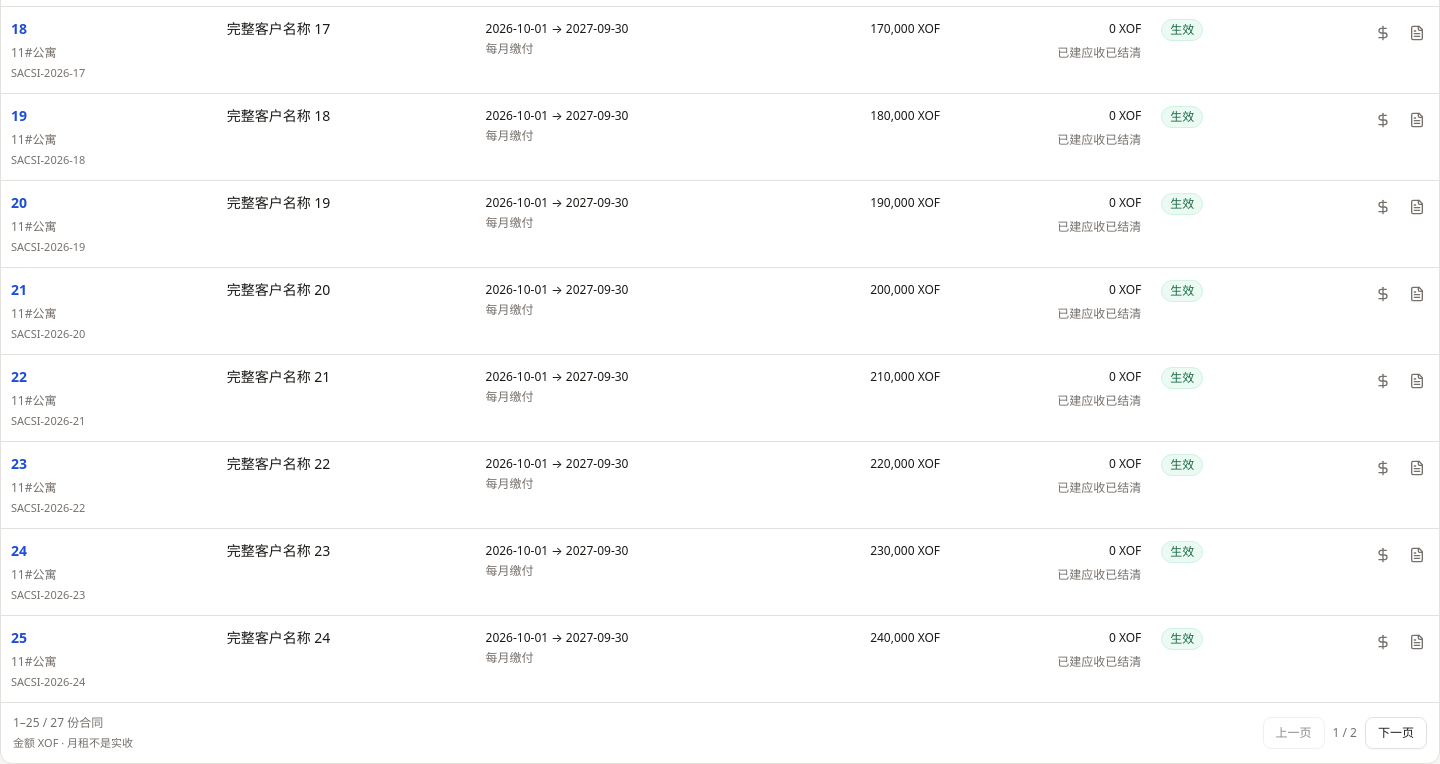
sorts local rows, leaves unknown amounts last, and reports only the visible page
The image size is (1440, 764).
(page scrolled)
Click the button "下一页": (1396,733) 1365,717 -> 1427,749
(page scrolled)
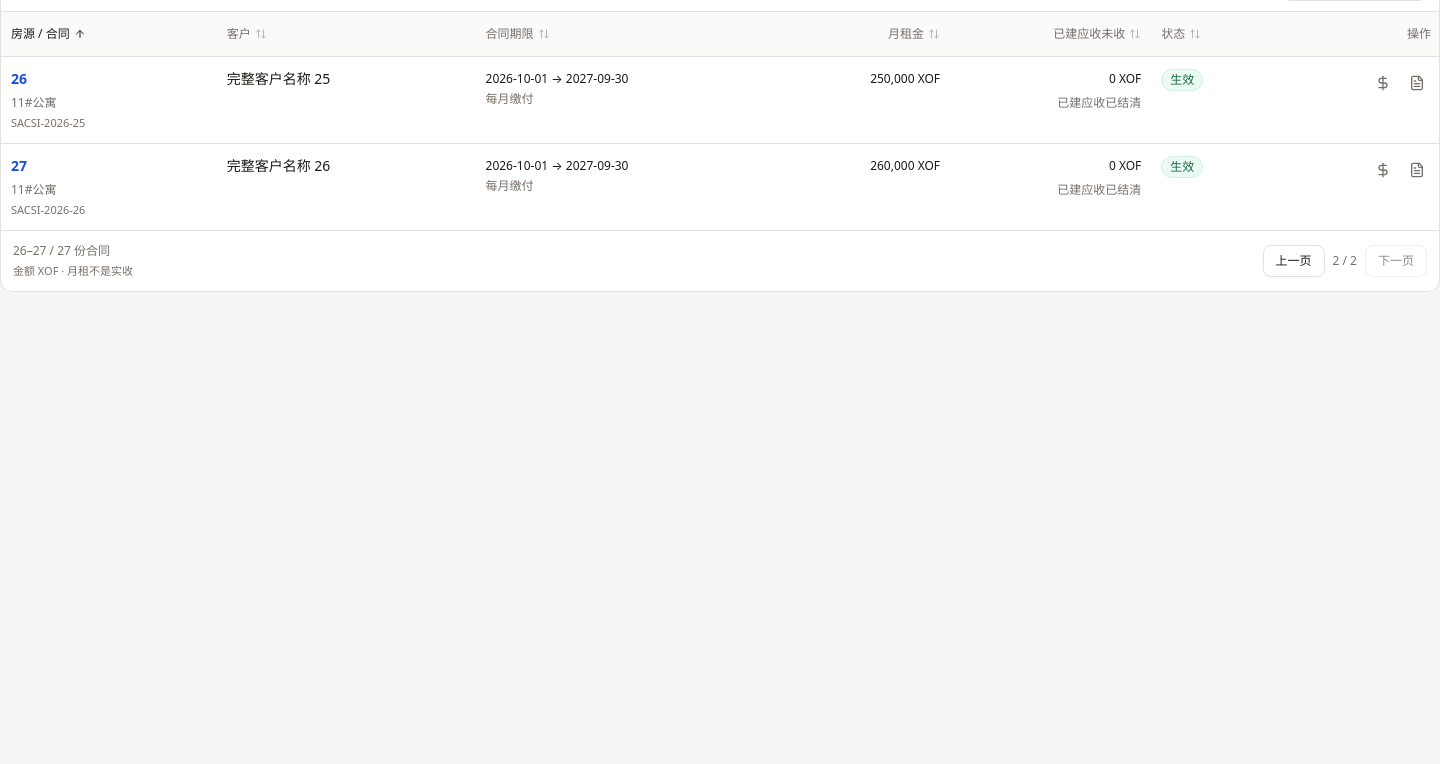
Check: the text "26–27 / 27" is shown, box 13,242 -> 71,259
Click the button "月租金": (914,34) 888,24 -> 940,44
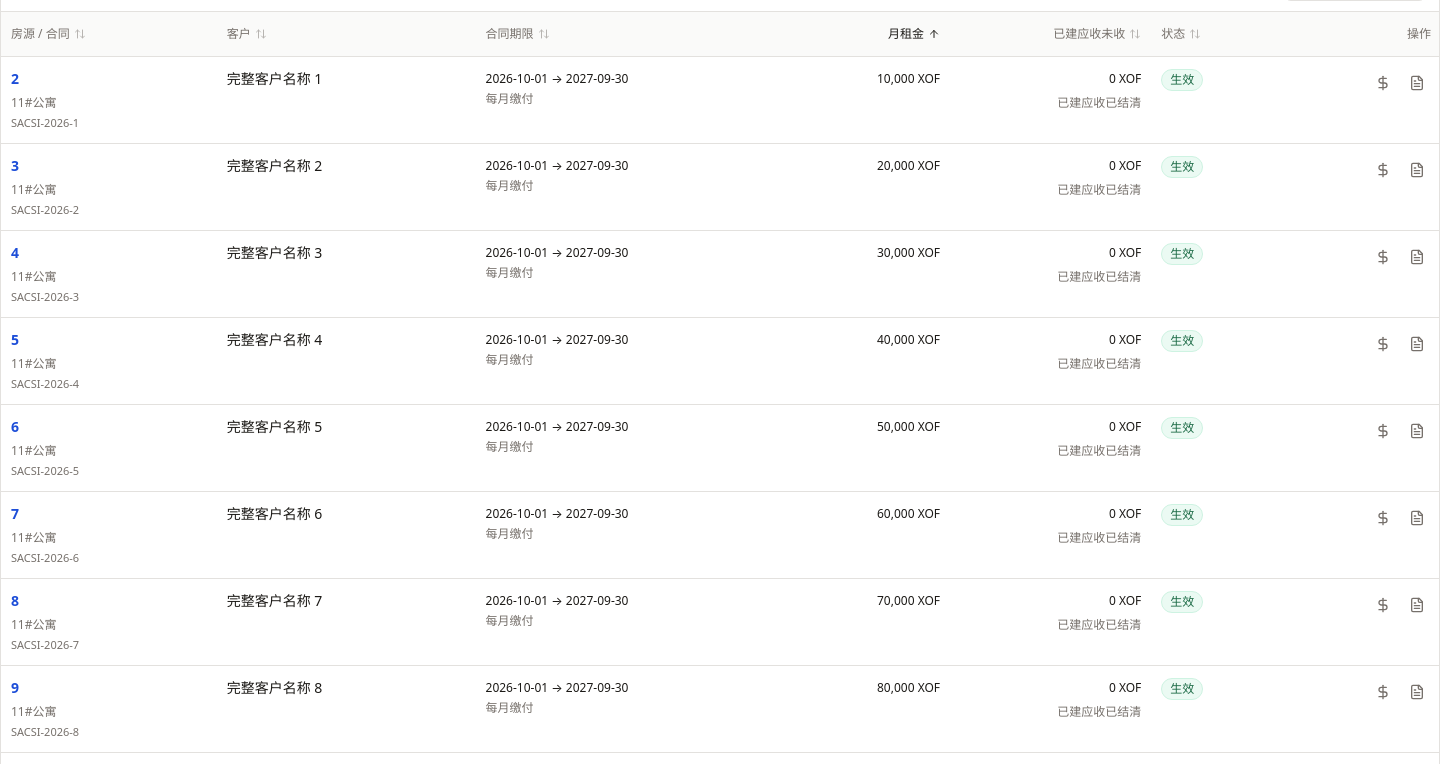
Check: the column heading "月租金" is shown, box 763,12 -> 950,56
Check: the button "2" is shown, box 11,69 -> 19,89
Click the button "月租金": (914,34) 888,24 -> 940,44
(page scrolled)
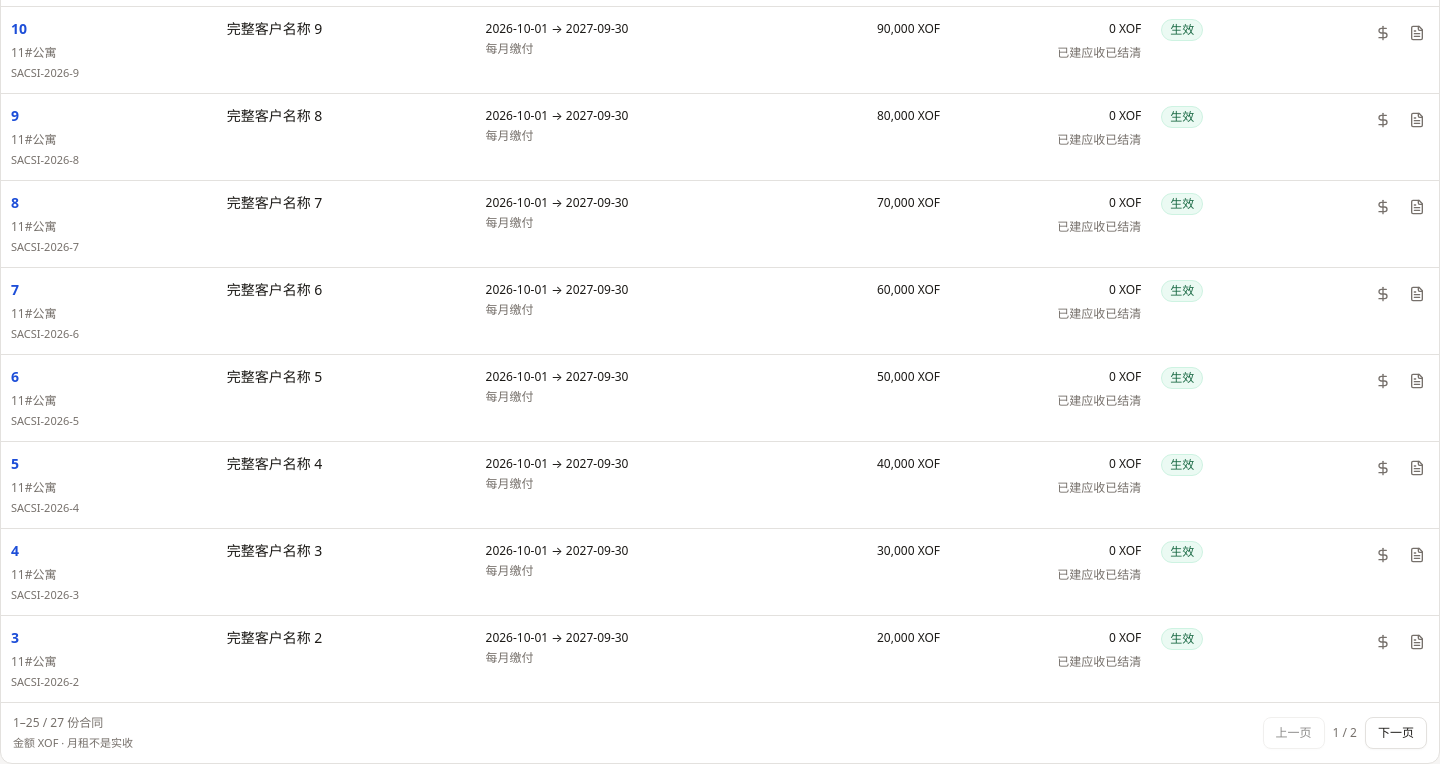
Click the button "下一页": (1396,733) 1365,717 -> 1427,749
(page scrolled)
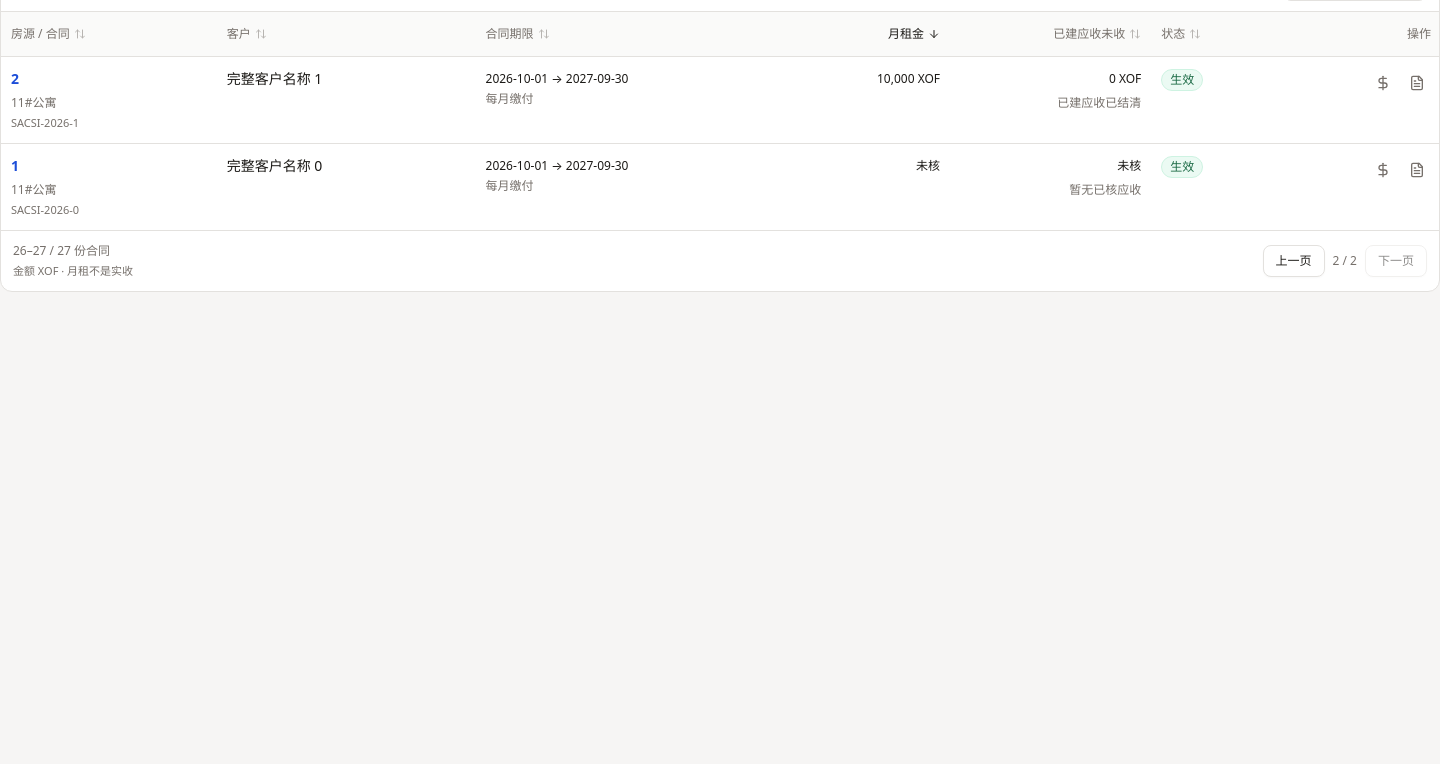
Check: the cell "未核" is shown, box 763,144 -> 950,230
